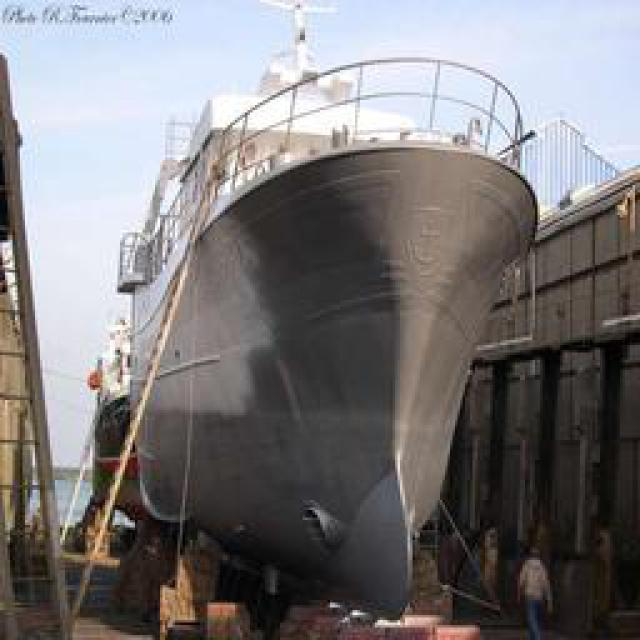Ship: (79, 6, 553, 626)
